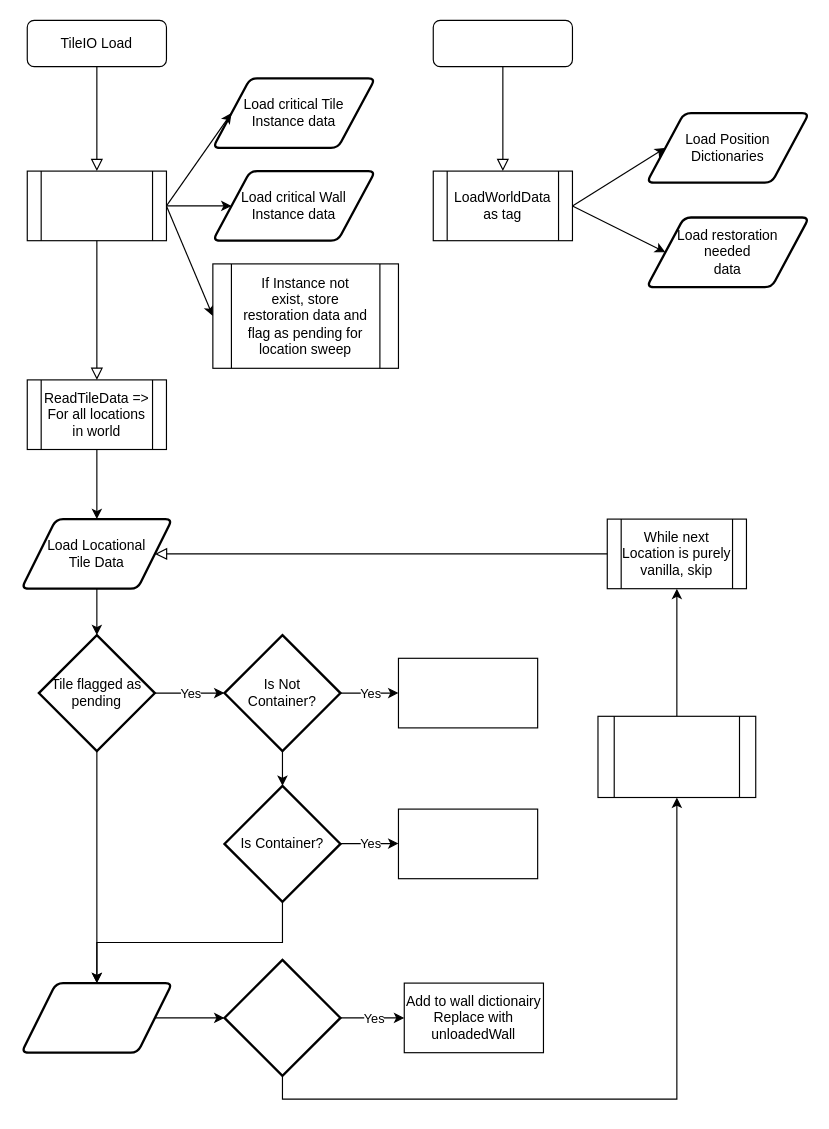
This 829x1129 diagram has some shape labels left out. The shapes that lost their labels are listed below. From the top down, each one's centre as x and y in pixels, then its label:
At (502,43): "U..TileSystem Save".
At (96,205): "LoadTiles()".
At (467,692): "Add to tile dictionairy Replace tile with unloadedTile".
At (676,756): "While next Location is exact same, copy previous location to tile".
At (467,843): "Add to chest dictionary Replace multi-tile with unloadedChest".
At (96,1017): "Save Locational Wall Data".
At (282,1017): "Wall flagged as pending".
